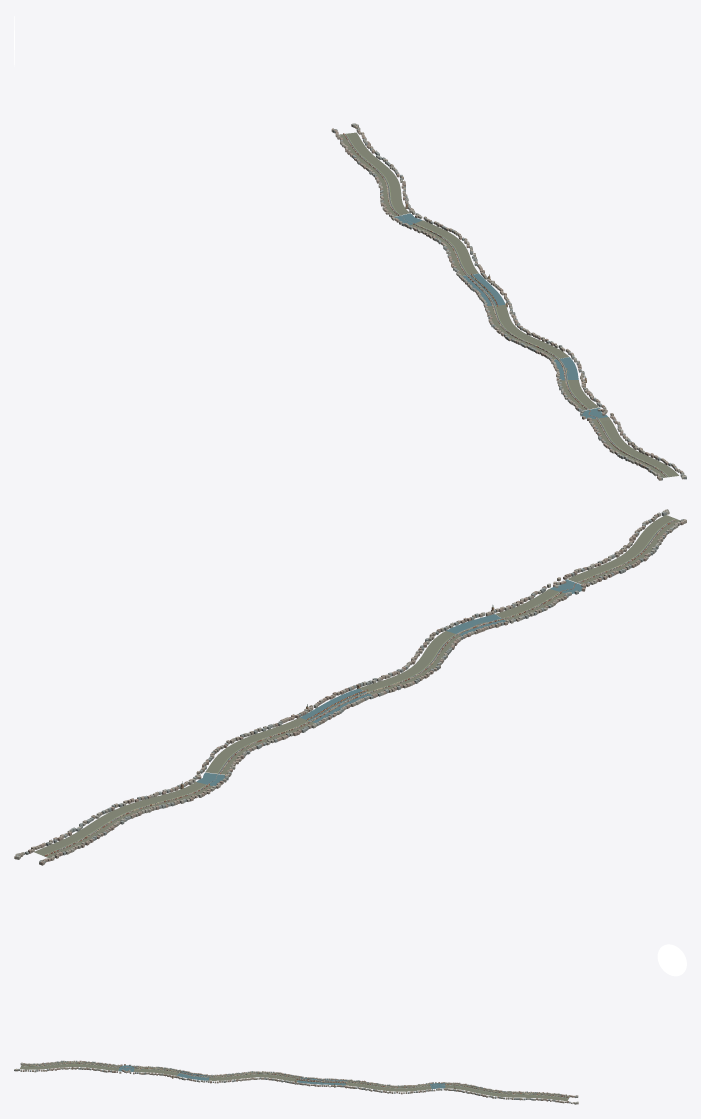
The model's file is copenhagen.glb.
The picture shows the model from 3 angles, top to bottom: view 1: azimuth 30°, elevation 25°; view 2: azimuth 150°, elevation 25°; view 3: azimuth 270°, elevation 25°; orthographic projection. The views are drawn at different scales.
Visible parts, largest first — view 1: Peaks; view 2: Peaks, Land_010, Land_000, Land_009, Land_005, Land_003, Land_004, Land_012, Land_007, Land_006, Land_013, Land_002 (+3 smaller); view 3: Peaks, Sun.
Part boxes in pixels (left/top/right/bottom): Peaks: left=331, top=123, right=686, bottom=480; Peaks: left=14, top=509, right=686, bottom=865; Land_010: left=203, top=748, right=242, bottom=781; Land_000: left=634, top=515, right=679, bottom=546; Land_009: left=226, top=726, right=292, bottom=752; Land_005: left=419, top=631, right=460, bottom=663; Land_003: left=505, top=589, right=564, bottom=618; Land_004: left=446, top=611, right=516, bottom=635; Land_012: left=100, top=796, right=166, bottom=822; Land_007: left=324, top=682, right=390, bottom=708; Land_006: left=379, top=660, right=437, bottom=688; Land_013: left=58, top=818, right=114, bottom=847; Land_002: left=549, top=567, right=609, bottom=593; Peaks: left=14, top=1060, right=578, bottom=1104; Sun: left=657, top=944, right=686, bottom=976.
Size of the model in its own units: 5040 by 2113 by 16468.
